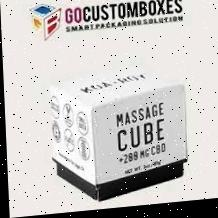cube: (46, 67, 188, 207)
